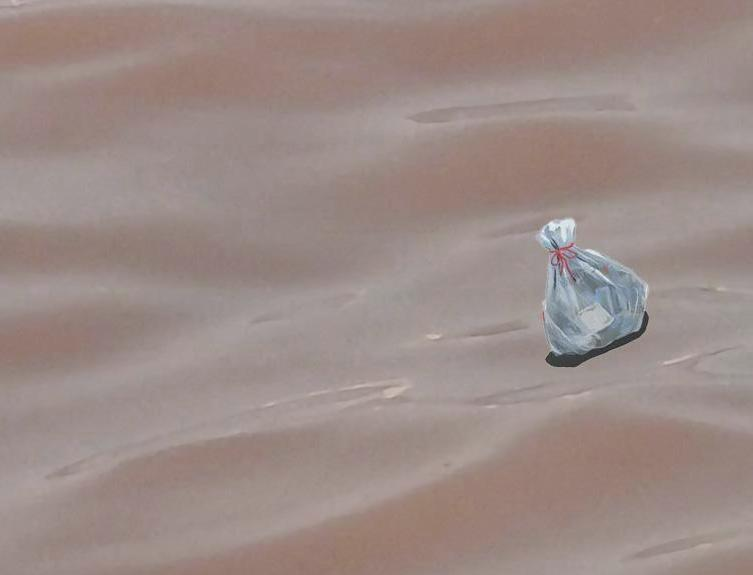Trash: (536, 215, 648, 361)
